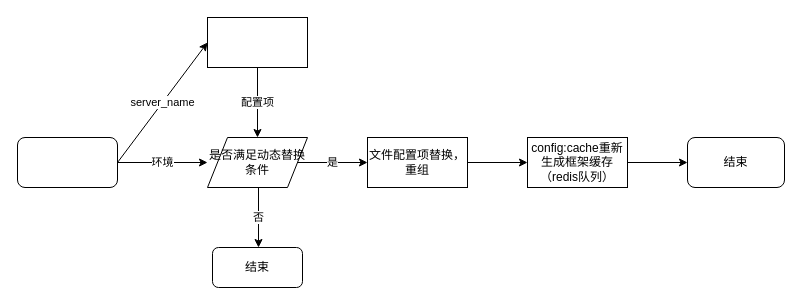
Image size: 802x305. Some labels were removed from this diagram. The centre of each missing label's shape, as x and y in pixels:
"customConf配置" goes at (x=257, y=42).
"绑定服务器" goes at (x=67, y=162).
